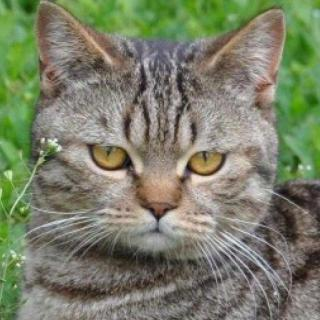cat: (34, 6, 292, 262)
nose: (137, 170, 188, 220)
